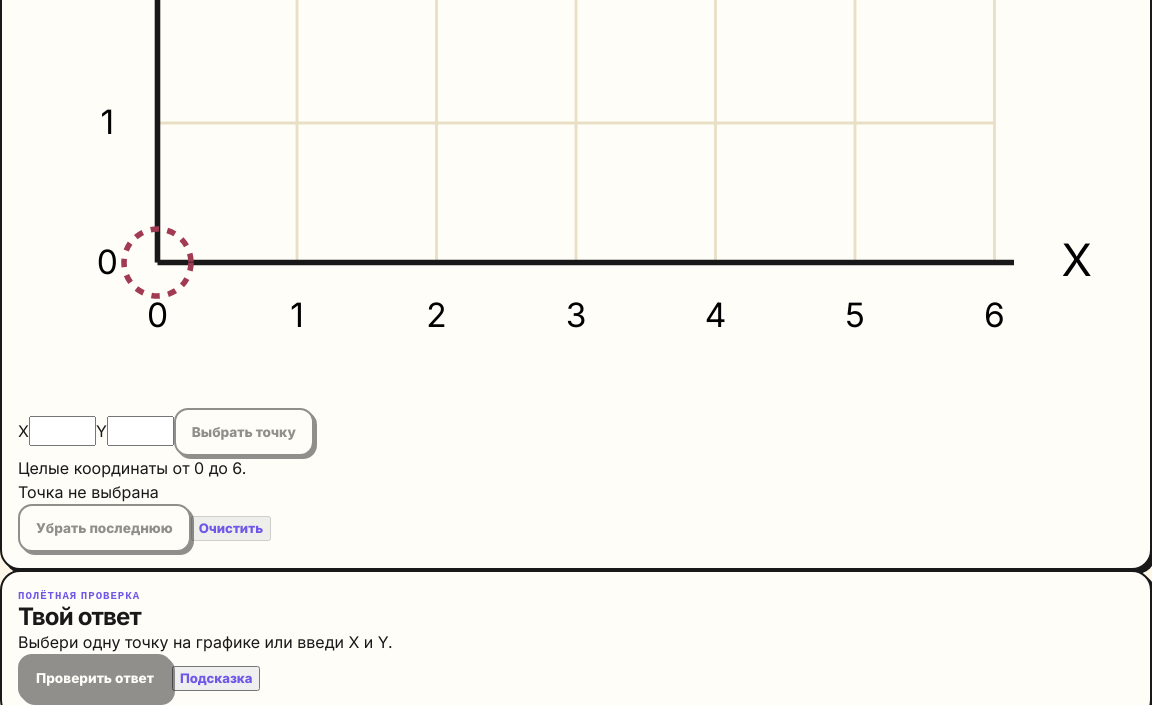
Test case: explains a wrong answer and allows a retry with a hint
The width and height of the screenshot is (1152, 705).
(page scrolled)
Click the button "Подсказка": (216, 678) [172,666,260,691]
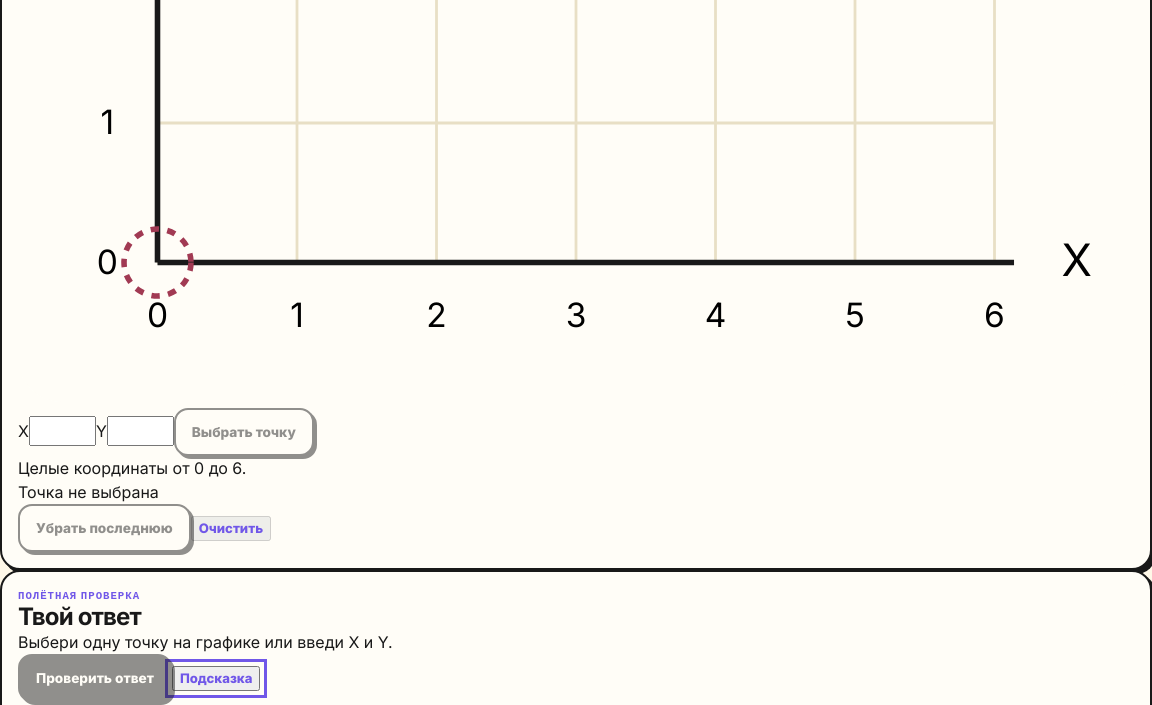
In the number field labelled "X": (62, 431) [29,416,96,446], type "4"
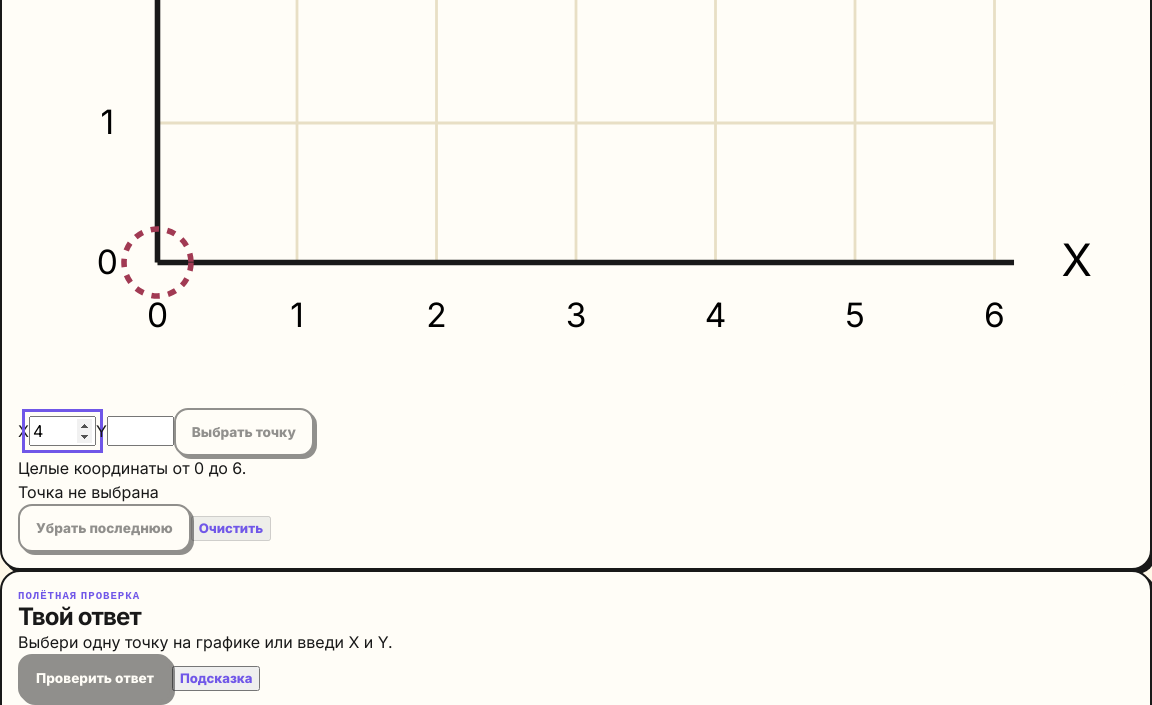
In the number field labelled "Y": (140, 431) [107,416,174,446], type "3"
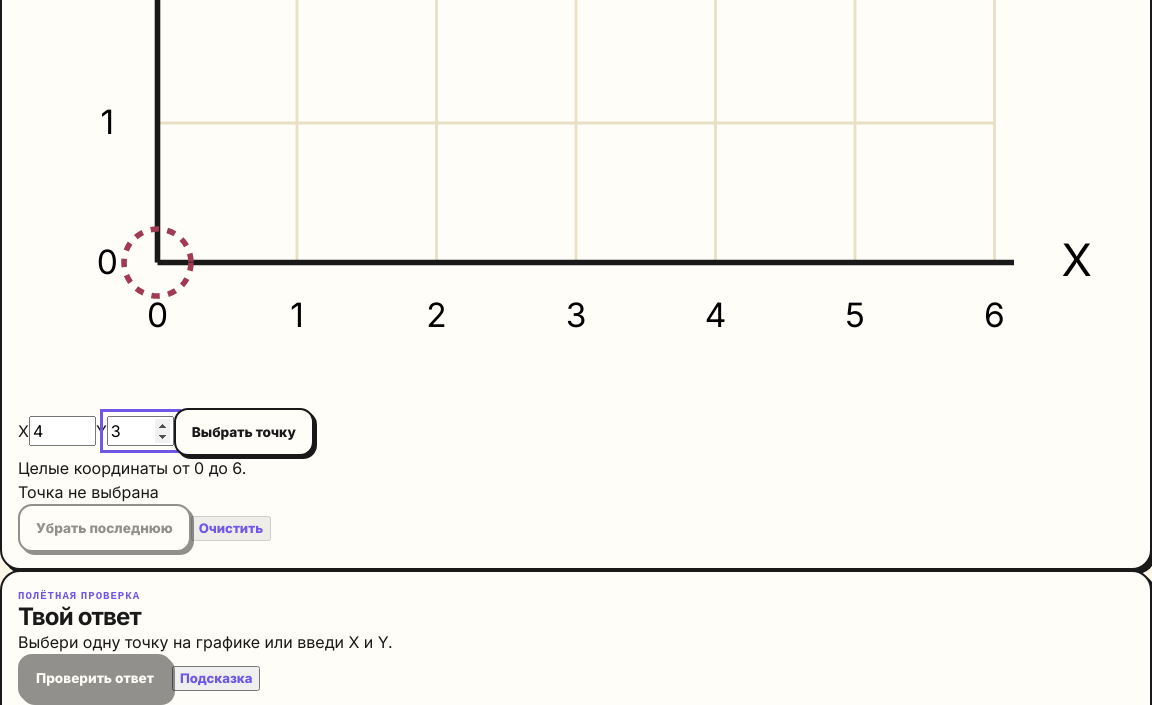
Click the button "Выбрать точку": (244, 432) [174,408,314,456]
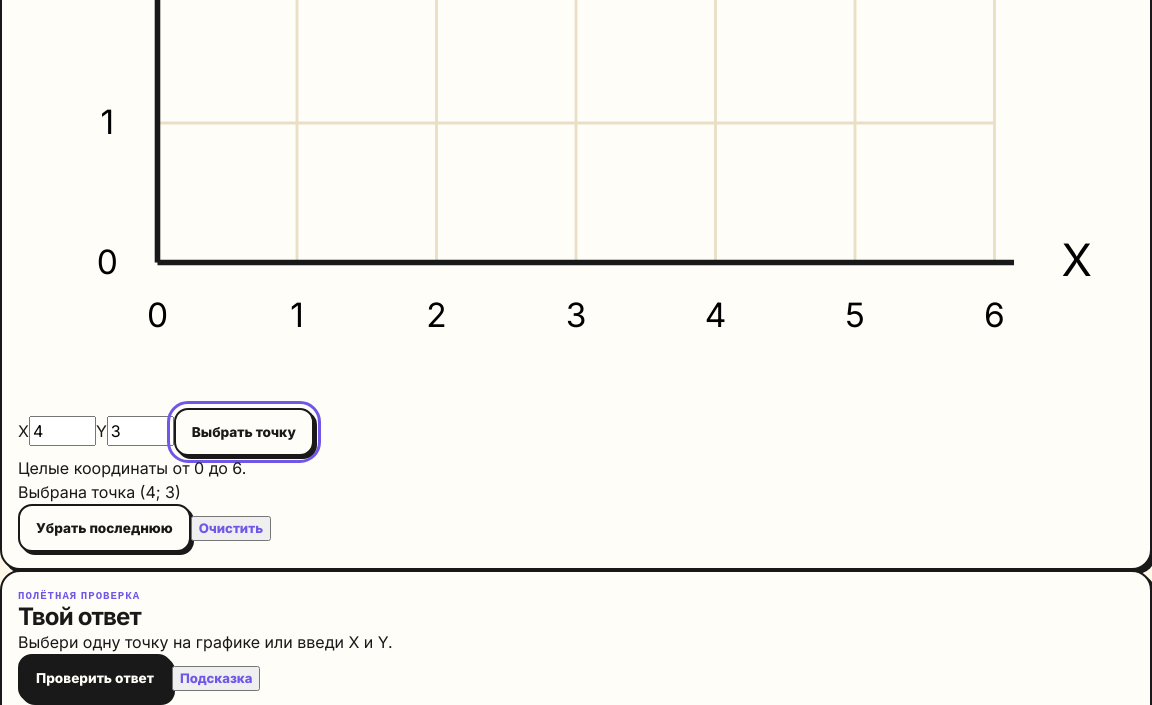
Click the button "Проверить ответ": (95, 678) [18,654,172,702]
(page scrolled)
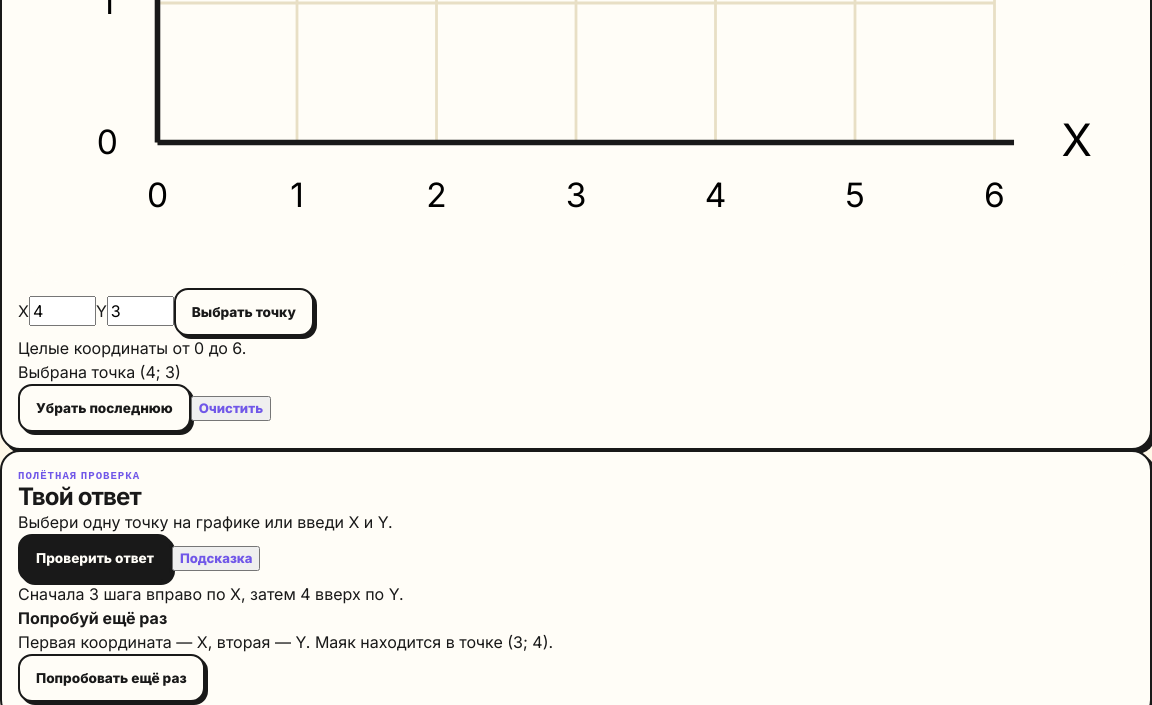
Expected: the button "Проверить ответ" is enabled, [18,534,172,582]
Expected: the text "Первая координата" is shown, [18,632,553,652]
Click the button "Попробовать ещё раз": (111, 678) [18,654,205,702]
(page scrolled)
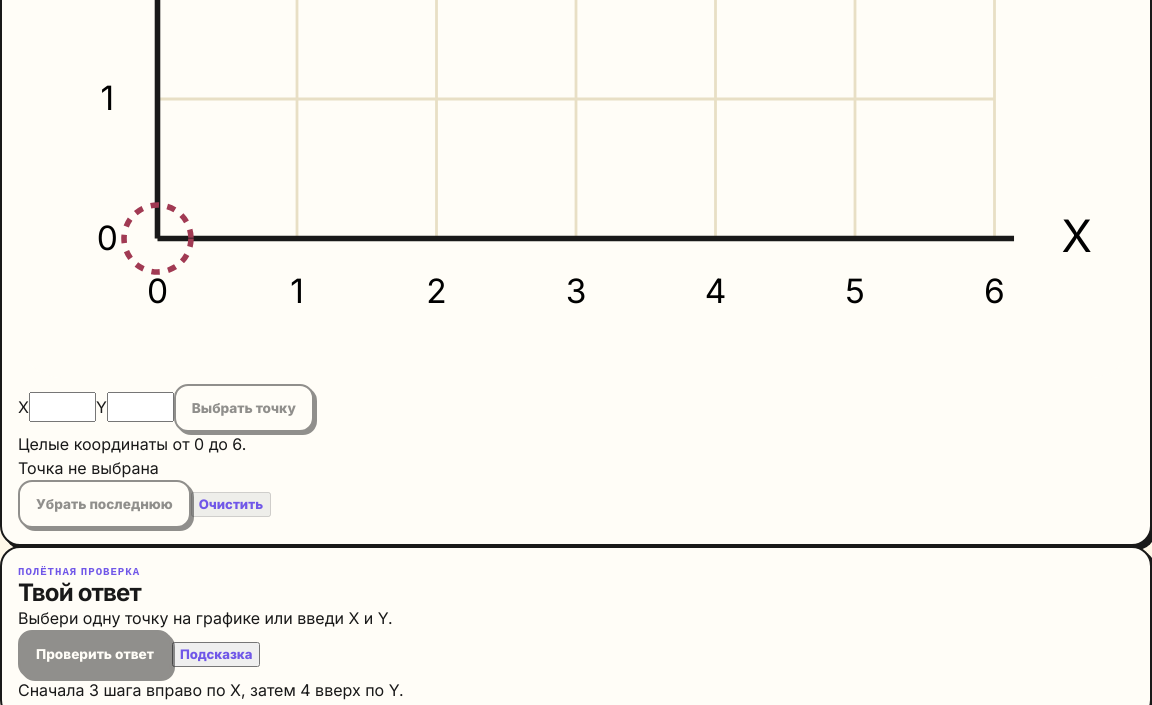
Expected: the text "Точка не выбрана" is shown, [18,458,159,478]
Expected: the button "Проверить ответ" is disabled, [18,630,172,678]
